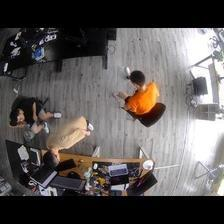normal: (109, 64, 162, 115), (36, 131, 91, 168), (6, 94, 58, 129)
